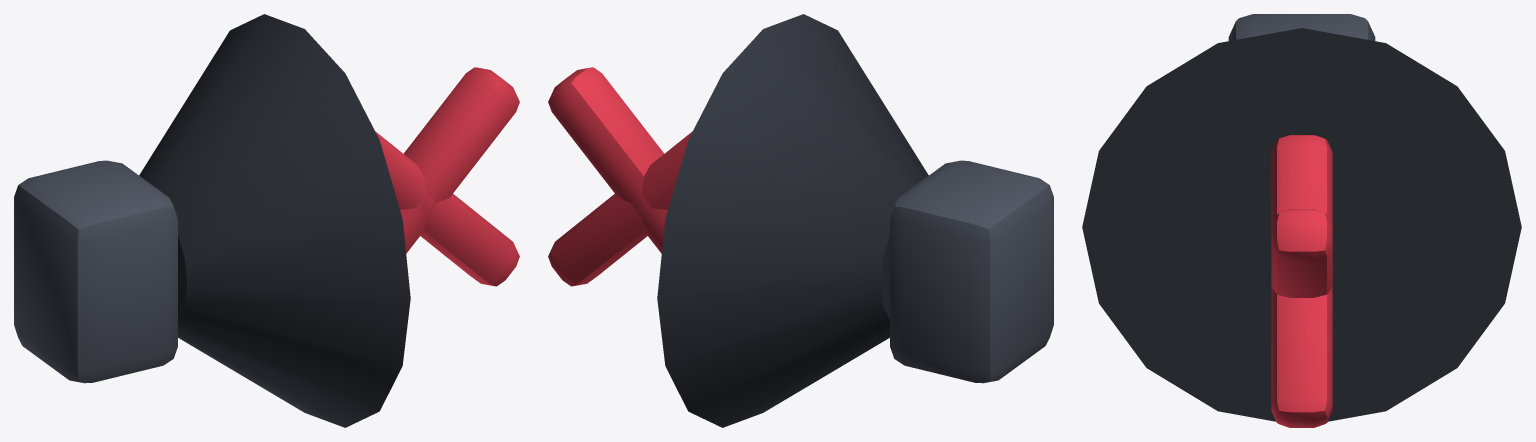
Rendered from icon_sound_off.glb.
3 views of the same model, side by side, from view 1: azimuth 30°, elevation 25°; view 2: azimuth 150°, elevation 25°; view 3: azimuth 270°, elevation 25° (orthographic). The views are drawn at different scales.
Parts seen in each view (by area): view 1: SoundOff; view 2: SoundOff; view 3: SoundOff.
Boxes of the visible parts, x1=… form: SoundOff: x1=14, y1=14, x2=519, y2=427; SoundOff: x1=548, y1=14, x2=1053, y2=427; SoundOff: x1=1082, y1=14, x2=1521, y2=427.
Size of the model in its own units: 0.9262 by 0.72 by 0.72.
1 material, 1 textured.
